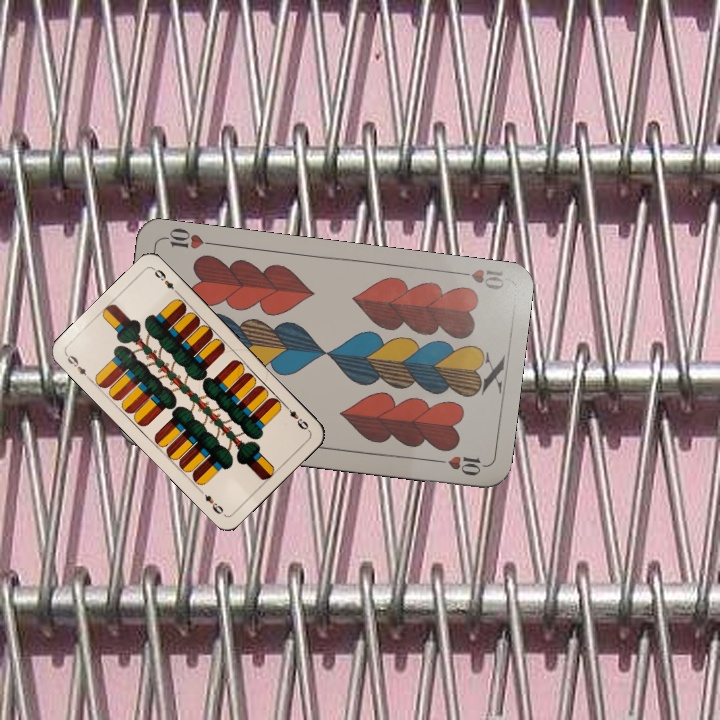E9: (280, 400, 312, 433), (62, 351, 94, 383)
H10: (449, 265, 507, 293)
